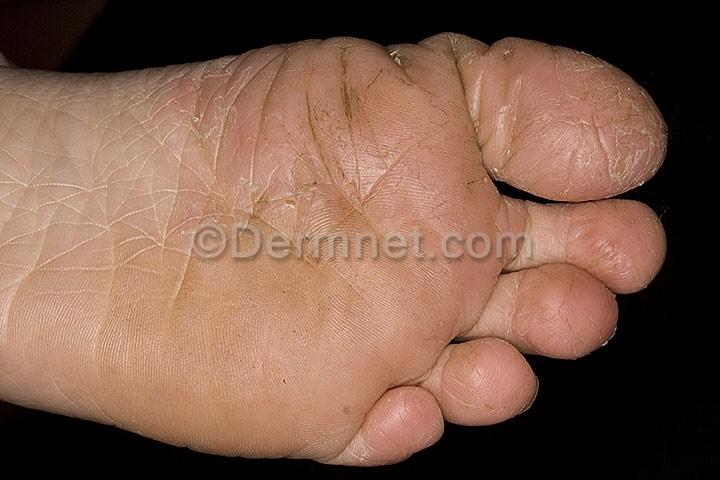liquenificacion 1: (0, 66, 233, 296)
xerosis 1: (192, 30, 671, 469)
